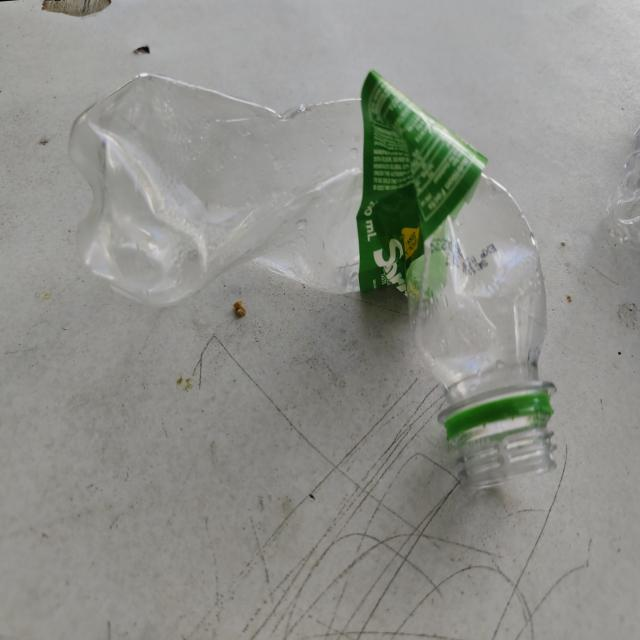Bottle: (68, 73, 556, 485)
